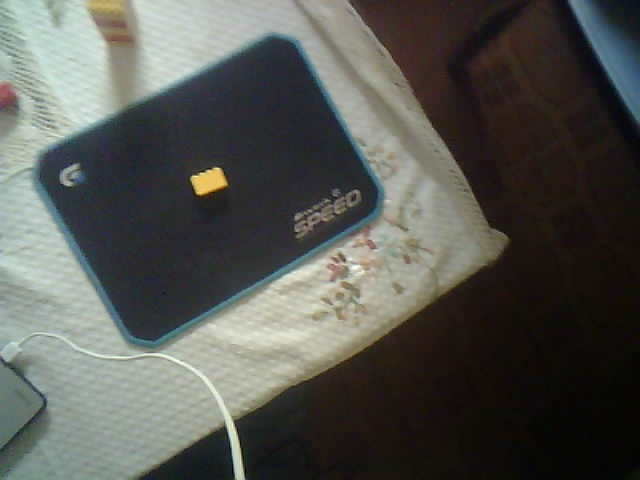lego: (84, 1, 142, 44), (189, 164, 229, 200), (1, 81, 17, 112)
